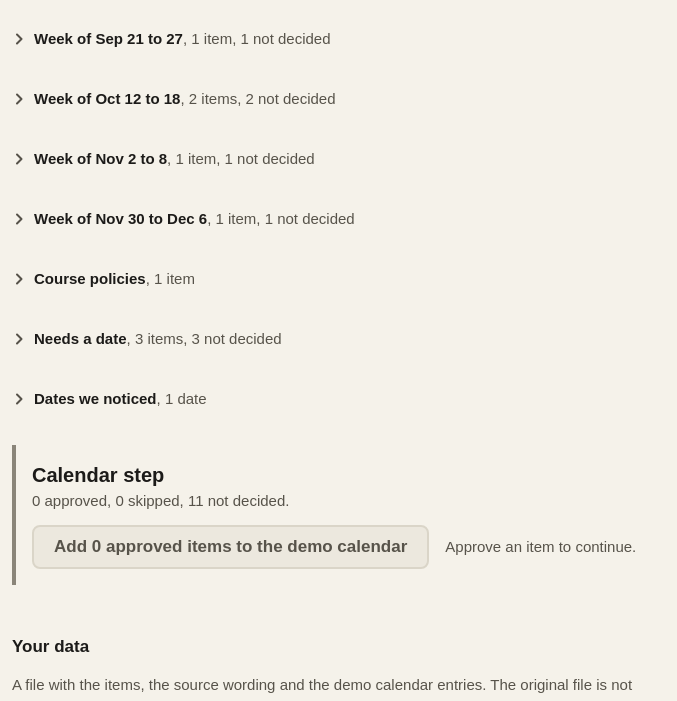
Scenario: Dates we noticed: the quote fallbacks (checklist 4) › context equal to the date: one quote, all bold, no second caption
The image size is (677, 701).
(page scrolled)
Click the button "Dates we noticed, 1 date": [95, 398] box [12,377,655,421]
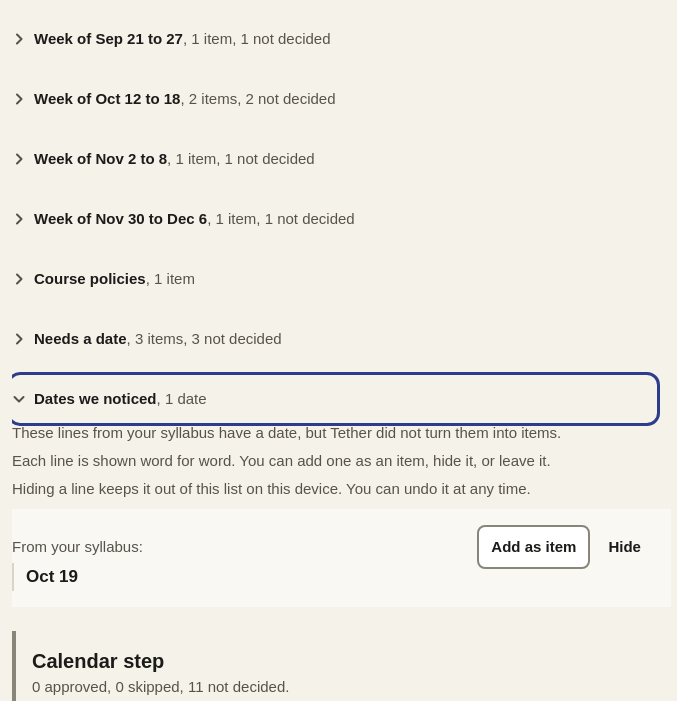
Result: the element showing "Oct 19" is shown at [26,567,78,586]
Result: the text "From your syllabus:" is shown at [12,538,143,555]
